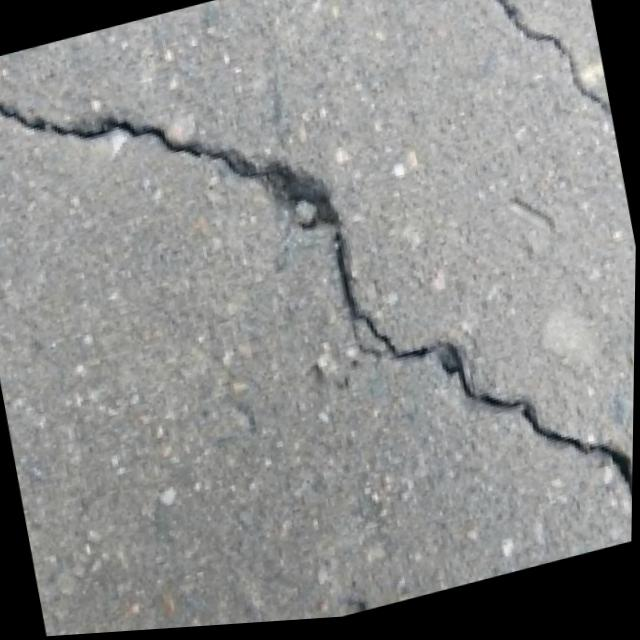Crack: (0, 0, 640, 640), (317, 0, 626, 248)
